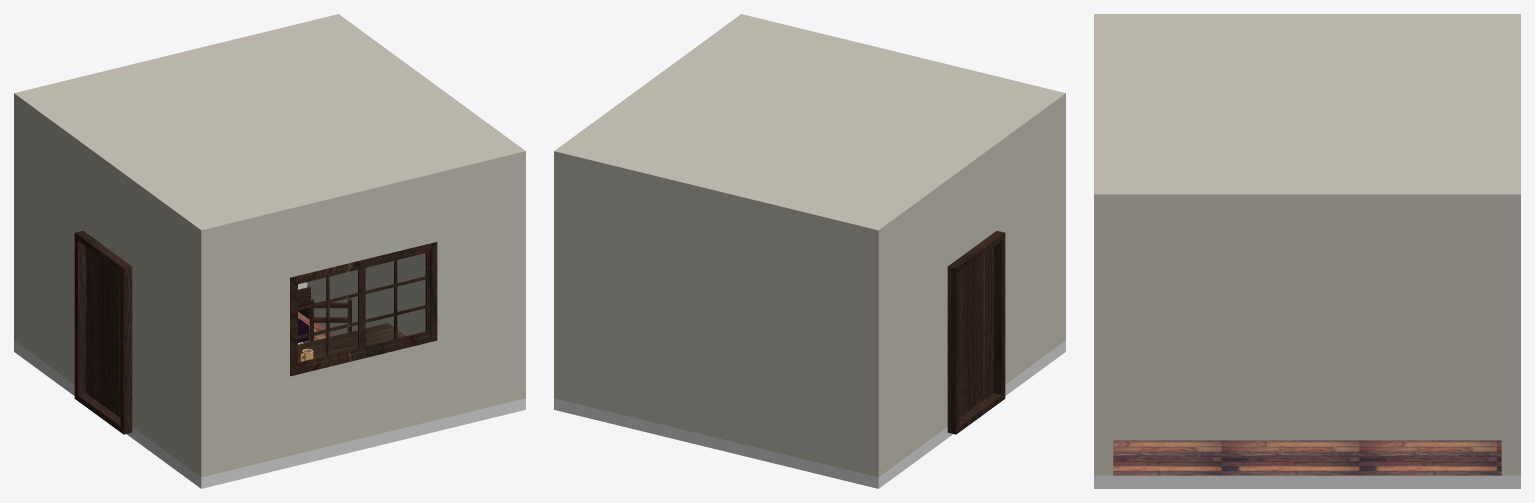
Rendered from soba6.fbx.
3 views of the same model, side by side, from view 1: azimuth 30°, elevation 25°; view 2: azimuth 150°, elevation 25°; view 3: azimuth 270°, elevation 25° (orthographic). The views are drawn at different scales.
Parts seen in each view (by area): view 1: tavan, sidewall2, sidewall1, prozor, floor, sidewall3, door_frame, door, sidewall4, masa, stolche; view 2: sidewall4, tavan, sidewall1, floor, door_frame, door, sidewall2; view 3: sidewall3, tavan, floor, sidewall2, sidewall4.
Boxes of the visible parts, x1,y1,x2,y2 form: tavan: (14, 14, 525, 245); sidewall2: (193, 166, 525, 477); sidewall1: (22, 115, 192, 470); prozor: (290, 242, 437, 376); floor: (14, 311, 525, 488); sidewall3: (307, 253, 425, 335); door_frame: (74, 231, 132, 434); door: (86, 247, 120, 417); sidewall4: (14, 109, 22, 346); masa: (298, 323, 405, 362); stolche: (309, 299, 351, 341); sidewall4: (554, 166, 886, 477); tavan: (554, 14, 1065, 245); sidewall1: (887, 115, 1057, 470); floor: (554, 340, 1065, 488); door_frame: (947, 231, 1005, 434); door: (959, 247, 993, 417); sidewall2: (1057, 109, 1065, 346); sidewall3: (1113, 212, 1501, 440); tavan: (1094, 14, 1520, 211); floor: (1094, 440, 1520, 488); sidewall2: (1094, 212, 1113, 475); sidewall4: (1501, 212, 1520, 475).
Bounding box in the file's own units: 4.51 × 4.4 × 3.35.
Materials: 20 (7 with a texture image).
